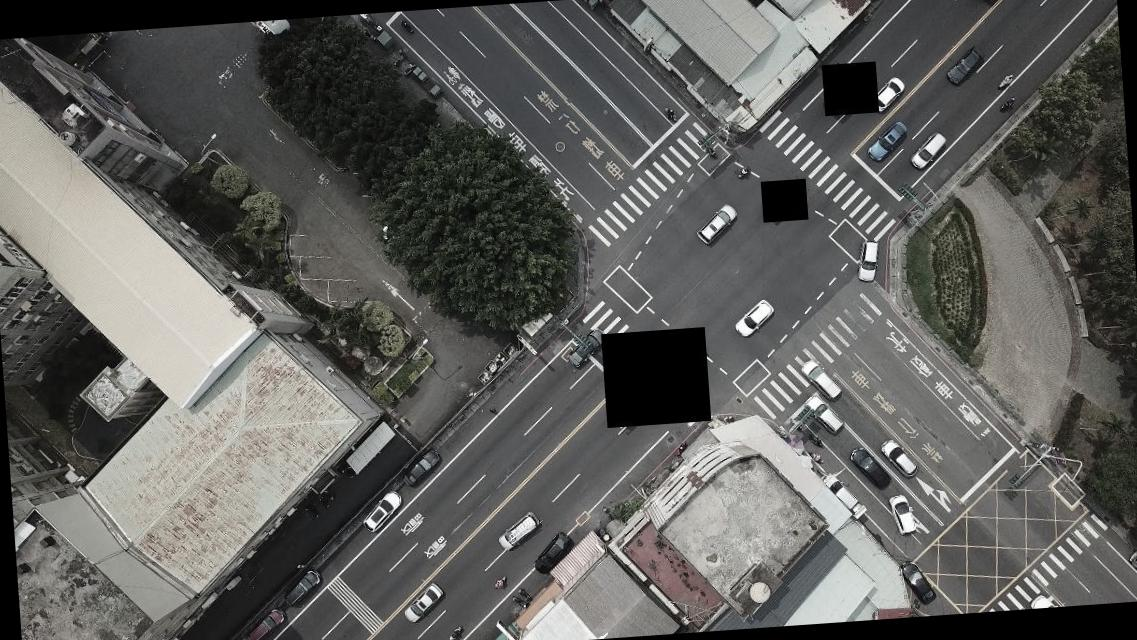vehicle: (818, 471, 868, 522), (848, 444, 892, 493), (693, 201, 740, 246), (798, 356, 843, 402), (864, 118, 910, 163), (530, 530, 574, 576), (564, 326, 609, 370), (361, 488, 404, 534), (495, 510, 541, 552), (898, 558, 936, 608), (802, 392, 844, 437), (732, 298, 777, 340), (401, 582, 446, 624), (282, 568, 324, 610), (879, 436, 919, 480), (944, 46, 986, 86), (867, 74, 908, 114), (401, 447, 442, 486), (908, 131, 948, 170), (245, 606, 288, 639), (887, 493, 917, 536), (854, 239, 881, 282)
